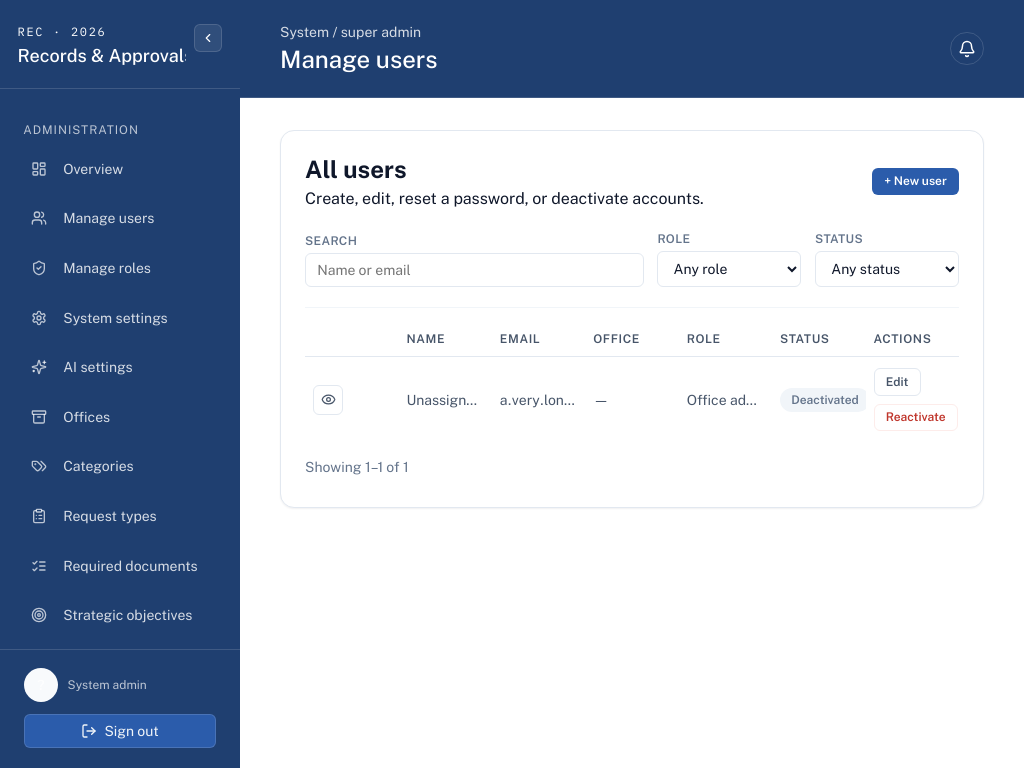
Test: ManageUsers — full user detail modal › shows sensible fallbacks for a deactivated user with no office assigned
The width and height of the screenshot is (1024, 768).
Check: the text "Unassigned Admin" is shown, box [398,356,492,442]
Click the button named "view full details for unassigned admin" at point(328, 400), box [313,384,343,415]
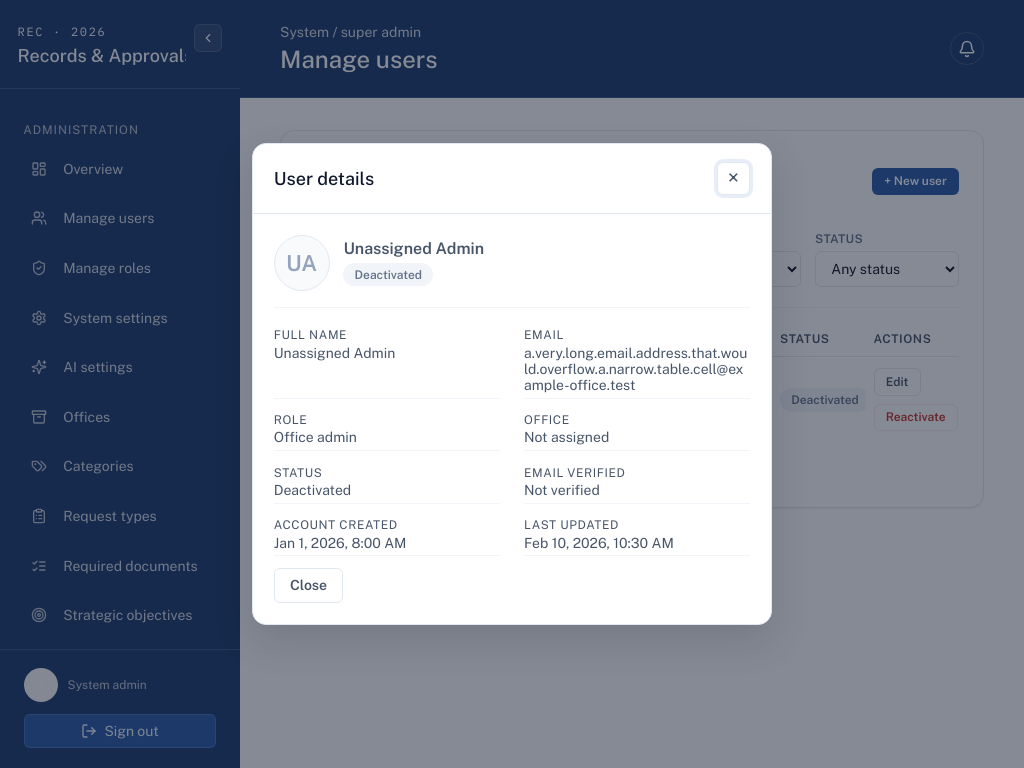
Check: the text "Not assigned" is shown, box [524,429,609,445]
Check: the text "Not verified" is shown, box [524,482,600,498]
Check: the text "Deactivated" is shown 2 times, box [343,263,433,286]; [274,482,351,498]
